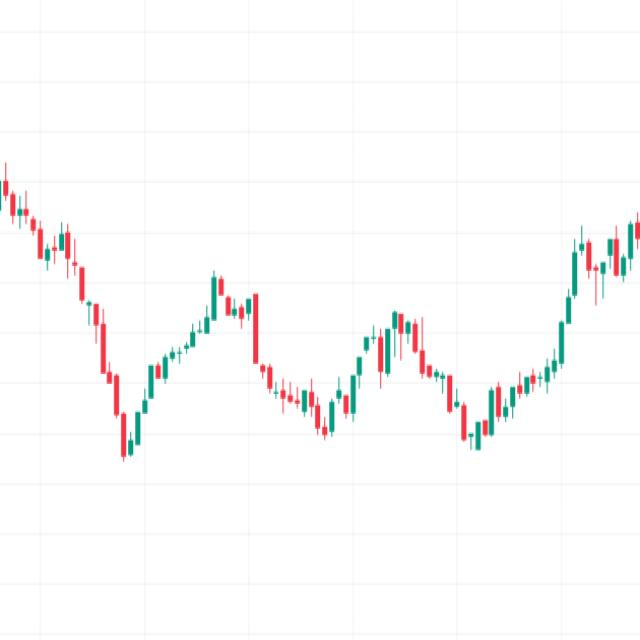Triple-Bottom: (71, 268, 576, 482)
